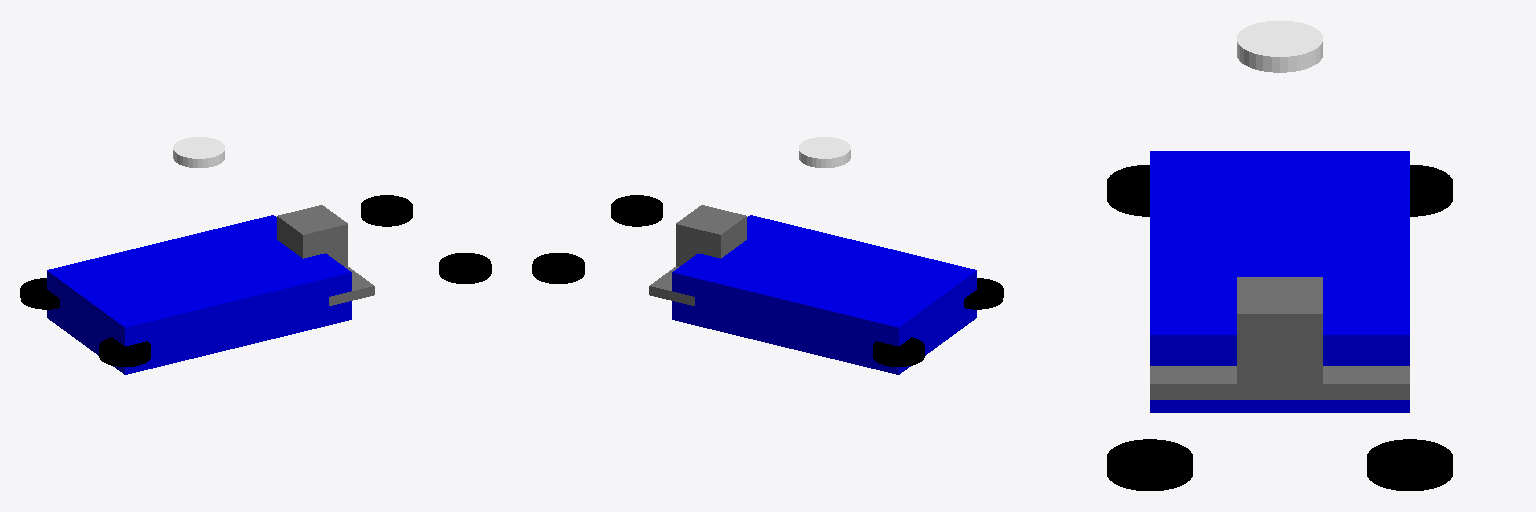
The robot description file, URDF, robot "ackermann_robot":
<?xml version="1.0"?>
<robot name="ackermann_robot">
  <!-- Base link of the robot -->
  <link name="base_link">
    <visual>
      <geometry>
        <box size="0.5 0.3 0.1"/>
      </geometry>
      <material name="blue">
        <color rgba="0 0 1 1"/>
      </material>
    </visual>
    <collision>
      <geometry>
        <box size="0.5 0.3 0.1"/>
      </geometry>
    </collision>
    <inertial>
      <mass value="10.0"/>
      <origin xyz="0 0 0"/>
      <inertia ixx="0.1" ixy="0.0" ixz="0.0" iyy="0.1" iyz="0.0" izz="0.1"/>
    </inertial>
  </link>

  <!-- Rear wheels -->
  <link name="rear_left_wheel">
    <visual>
      <geometry>
        <cylinder length="0.02" radius="0.05"/>
      </geometry>
      <material name="black">
        <color rgba="0 0 0 1"/>
      </material>
    </visual>
    <collision>
      <geometry>
        <cylinder length="0.02" radius="0.05"/>
      </geometry>
    </collision>
  </link>

  <link name="rear_right_wheel">
    <visual>
      <geometry>
        <cylinder length="0.02" radius="0.05"/>
      </geometry>
      <material name="black">
        <color rgba="0 0 0 1"/>
      </material>
    </visual>
    <collision>
      <geometry>
        <cylinder length="0.02" radius="0.05"/>
      </geometry>
    </collision>
  </link>

  <!-- Front wheels -->
  <link name="front_left_wheel">
    <visual>
      <geometry>
        <cylinder length="0.02" radius="0.05"/>
      </geometry>
      <material name="black">
        <color rgba="0 0 0 1"/>
      </material>
    </visual>
    <collision>
      <geometry>
        <cylinder length="0.02" radius="0.05"/>
      </geometry>
    </collision>
  </link>

  <link name="front_right_wheel">
    <visual>
      <geometry>
        <cylinder length="0.02" radius="0.05"/>
      </geometry>
      <material name="black">
        <color rgba="0 0 0 1"/>
      </material>
    </visual>
    <collision>
      <geometry>
        <cylinder length="0.02" radius="0.05"/>
      </geometry>
    </collision>
  </link>

  <!-- Steering link -->
  <link name="steering_link">
    <visual>
      <geometry>
        <box size="0.1 0.3 0.02"/>
      </geometry>
      <material name="grey">
        <color rgba="0.5 0.5 0.5 1"/>
      </material>
    </visual>
    <collision>
      <geometry>
        <box size="0.1 0.3 0.02"/>
      </geometry>
    </collision>
  </link>

  <!-- LiDAR link -->
  <link name="lidar_link">
    <visual>
      <geometry>
        <cylinder length="0.02" radius="0.05"/>
      </geometry>
      <material name="white">
        <color rgba="1 1 1 1"/>
      </material>
    </visual>
    <collision>
      <geometry>
        <cylinder length="0.02" radius="0.05"/>
      </geometry>
    </collision>
  </link>

  <!-- Camera link -->
  <link name="camera_link">
    <visual>
      <geometry>
        <box size="0.1 0.1 0.1"/>
      </geometry>
      <material name="grey">
        <color rgba="0.5 0.5 0.5 1"/>
      </material>
    </visual>
    <collision>
      <geometry>
        <box size="0.1 0.1 0.1"/>
      </geometry>
    </collision>
  </link>

  <!-- Joints -->
  <!-- Rear wheel joints -->
  <joint name="rear_left_wheel_joint" type="continuous">
    <parent link="base_link"/>
    <child link="rear_left_wheel"/>
    <origin xyz="-0.25 0.15 0" rpy="0 0 0"/>
    <axis xyz="0 1 0"/>
  </joint>

  <joint name="rear_right_wheel_joint" type="continuous">
    <parent link="base_link"/>
    <child link="rear_right_wheel"/>
    <origin xyz="-0.25 -0.15 0" rpy="0 0 0"/>
    <axis xyz="0 1 0"/>
  </joint>

  <!-- Front wheel joints -->
  <joint name="front_left_wheel_joint" type="continuous">
    <parent link="steering_link"/>
    <child link="front_left_wheel"/>
    <origin xyz="0.25 0.15 0" rpy="0 0 0"/>
    <axis xyz="0 1 0"/>
  </joint>

  <joint name="front_right_wheel_joint" type="continuous">
    <parent link="steering_link"/>
    <child link="front_right_wheel"/>
    <origin xyz="0.25 -0.15 0" rpy="0 0 0"/>
    <axis xyz="0 1 0"/>
  </joint>

  <!-- Steering joint -->
  <joint name="steering_joint" type="revolute">
    <parent link="base_link"/>
    <child link="steering_link"/>
    <origin xyz="0.25 0 0" rpy="0 0 0"/>
    <axis xyz="0 0 1"/>
    <limit lower="-0.15" upper="0.15" effort="10" velocity="1"/>
  </joint>

  <!-- LiDAR joint -->
  <joint name="lidar_joint" type="fixed">
    <parent link="base_link"/>
    <child link="lidar_link"/>
    <origin xyz="0 0 0.3" rpy="0 0 0"/>
  </joint>

  <!-- Camera joint -->
  <joint name="camera_joint" type="fixed">
    <parent link="base_link"/>
    <child link="camera_link"/>
    <origin xyz="0.25 0 0.05" rpy="0 0 0"/>
  </joint>
</robot>

--- Facts derived from the render (not from the file) ---
The picture shows the robot from 3 angles, left to right: view 1: azimuth 30°, elevation 25°; view 2: azimuth 150°, elevation 25°; view 3: azimuth 270°, elevation 25°; orthographic projection.
Model ackermann_robot with 8 links and 7 joints (1 revolute, 4 continuous, 2 fixed), rooted at base_link, posed every joint at zero.
Links seen in each view (by area): view 1: base_link, camera_link, front_right_wheel, front_left_wheel, lidar_link, rear_right_wheel, rear_left_wheel, steering_link; view 2: base_link, camera_link, front_left_wheel, front_right_wheel, lidar_link, rear_left_wheel, rear_right_wheel, steering_link; view 3: base_link, camera_link, steering_link, lidar_link, front_left_wheel, front_right_wheel, rear_left_wheel, rear_right_wheel.
Boxes of the visible links, bbox=[...] form: base_link: bbox=[47, 215, 351, 374]; camera_link: bbox=[277, 205, 347, 266]; front_right_wheel: bbox=[439, 253, 491, 283]; front_left_wheel: bbox=[361, 195, 412, 226]; lidar_link: bbox=[173, 137, 224, 167]; rear_right_wheel: bbox=[99, 337, 150, 366]; rear_left_wheel: bbox=[20, 278, 59, 309]; steering_link: bbox=[329, 267, 374, 305]; base_link: bbox=[672, 215, 976, 374]; camera_link: bbox=[676, 205, 746, 266]; front_left_wheel: bbox=[532, 253, 584, 283]; front_right_wheel: bbox=[611, 195, 662, 226]; lidar_link: bbox=[799, 137, 850, 167]; rear_left_wheel: bbox=[873, 337, 924, 366]; rear_right_wheel: bbox=[964, 278, 1003, 309]; steering_link: bbox=[649, 267, 694, 305]; base_link: bbox=[1150, 151, 1409, 412]; camera_link: bbox=[1237, 277, 1322, 389]; steering_link: bbox=[1150, 366, 1409, 399]; lidar_link: bbox=[1237, 21, 1322, 72]; front_left_wheel: bbox=[1367, 439, 1452, 490]; front_right_wheel: bbox=[1107, 439, 1192, 490]; rear_left_wheel: bbox=[1410, 165, 1452, 216]; rear_right_wheel: bbox=[1107, 165, 1149, 216].
Size in the robot's own frame: 0.85 by 0.4 by 0.36 metres.
Geometry: primitives only (box / cylinder / sphere), no mesh files.